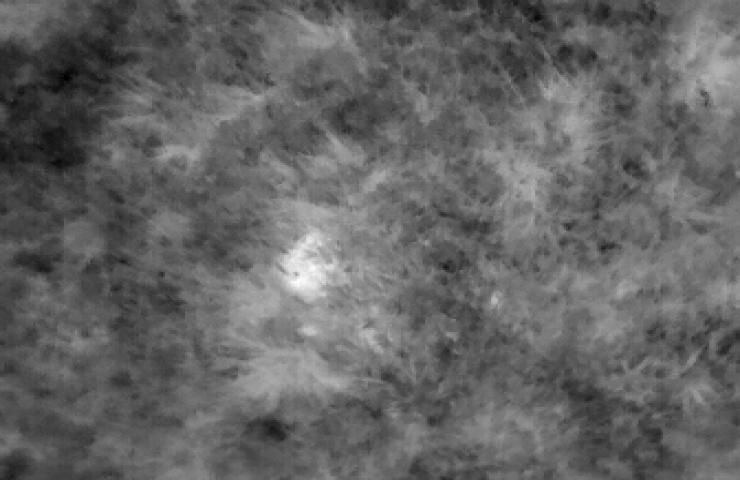landmines: (277, 225, 347, 303)
